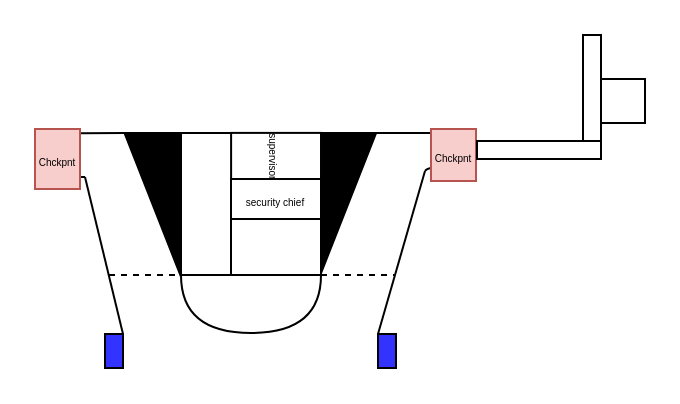
Some shapes in this 680 by 404 pixel diagram are drawn without their labels. Here are the shapes that lost their labels. From the top down, the centre of each, then its label:
At (x=622, y=100): "hydro".
At (x=275, y=246): "Site manager".
